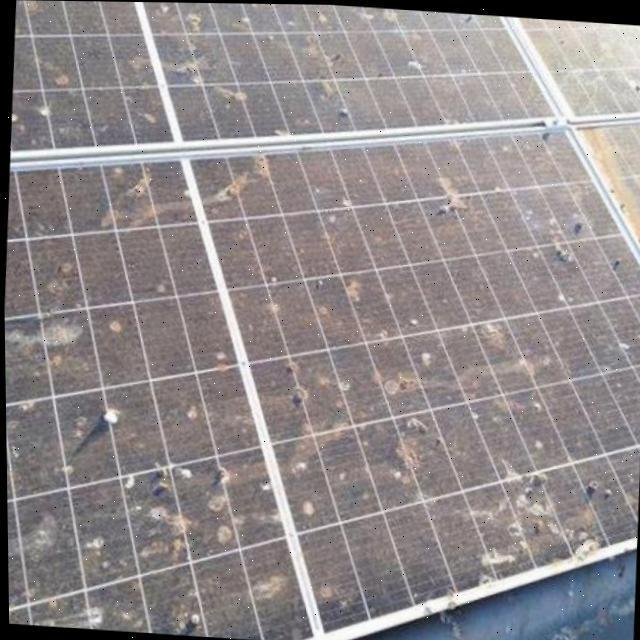Anomaly Solar Panel: (4, 120, 640, 640), (10, 0, 640, 158)
Surface Contaminant: (4, 118, 640, 640), (10, 0, 640, 240)
